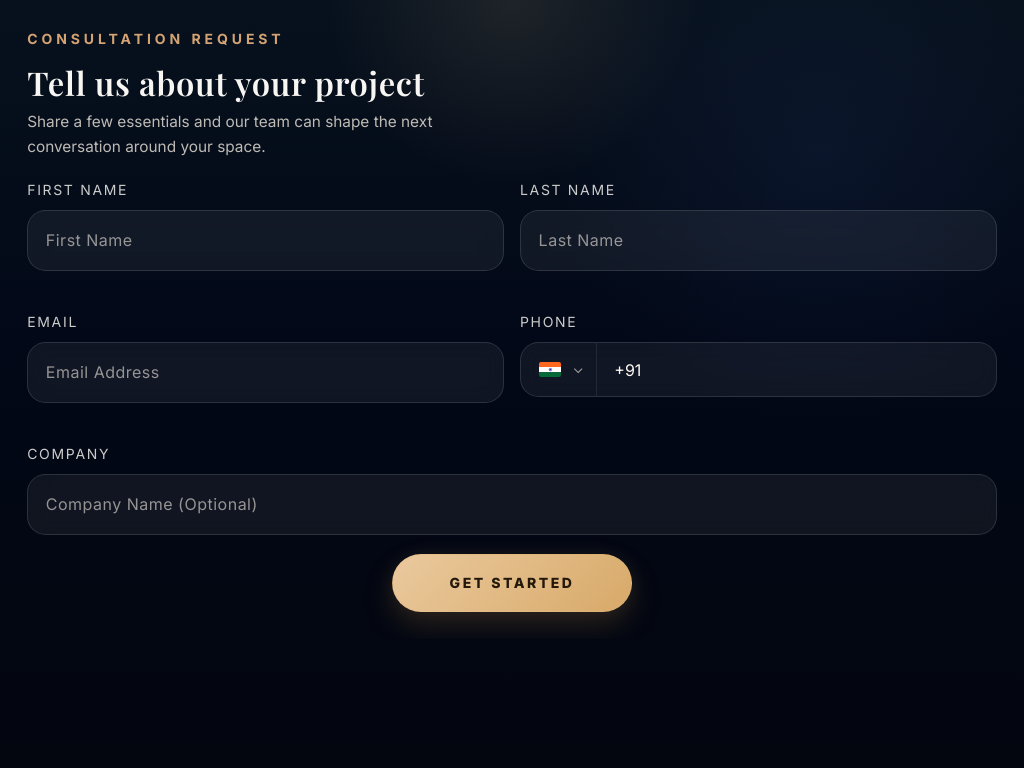
Test case: ConsultationForm › submits valid details and advances to OTP verification
Type "Arelia" into the field labelled "First Name" at (266, 240), box [27,210,504,271]
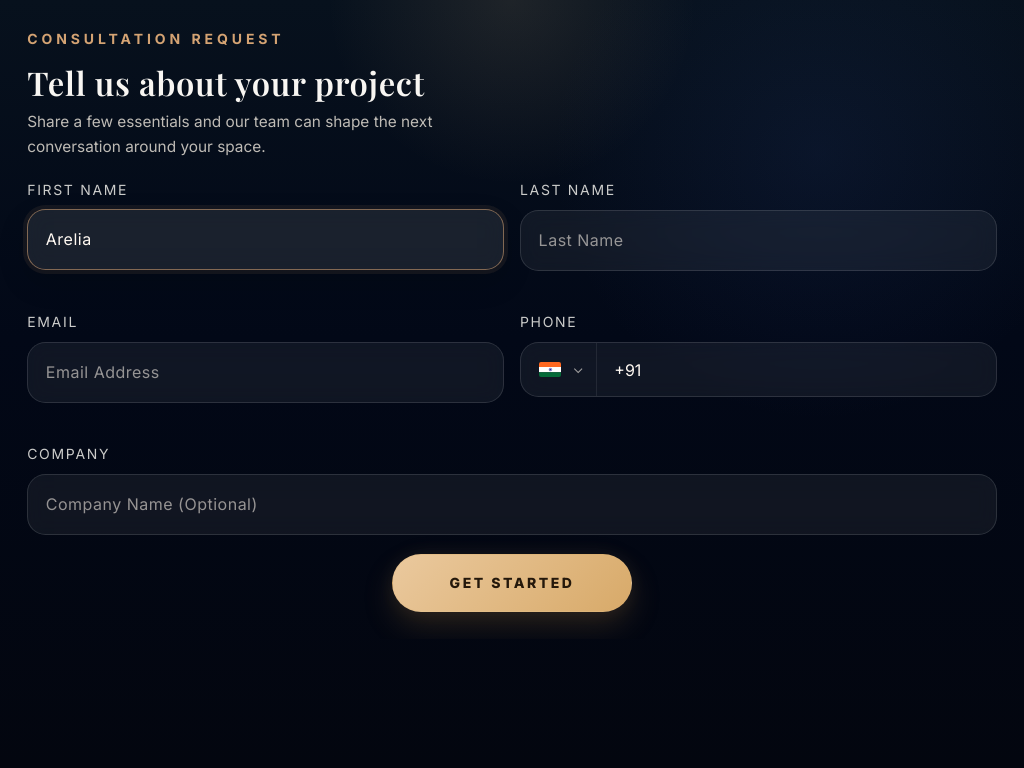
Type "Space" into the field labelled "Last Name" at (758, 240), box [520,210,997,271]
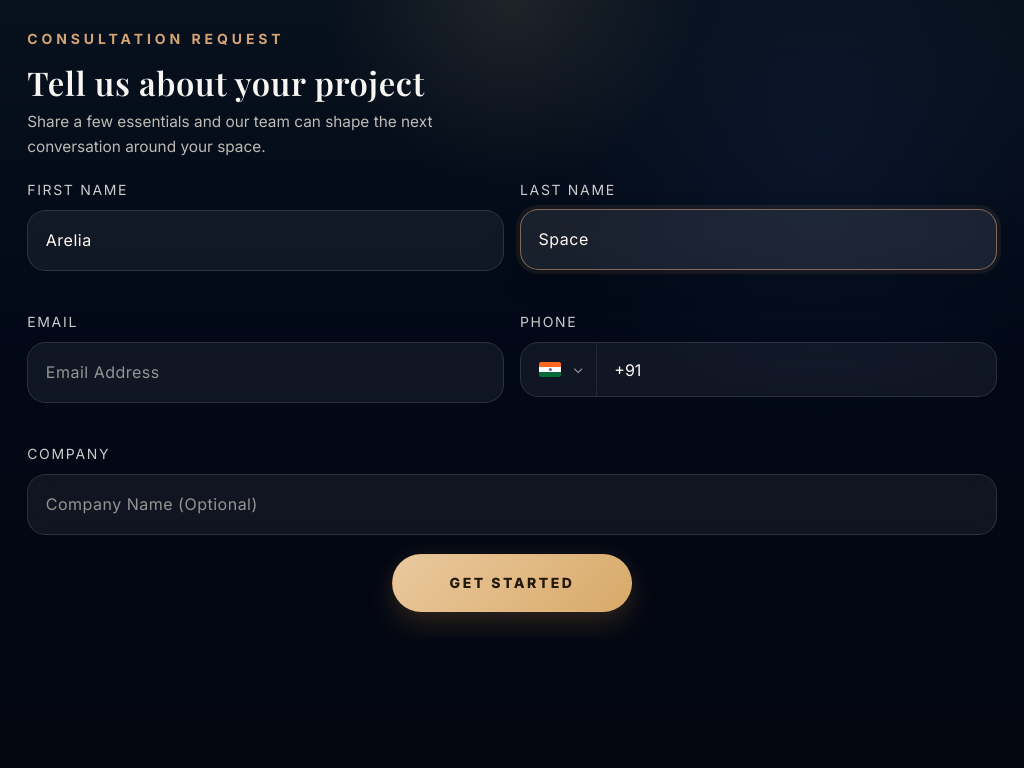
Type "hello@arelia.com" into the field labelled "Email" at (266, 373), box [27,342,504,403]
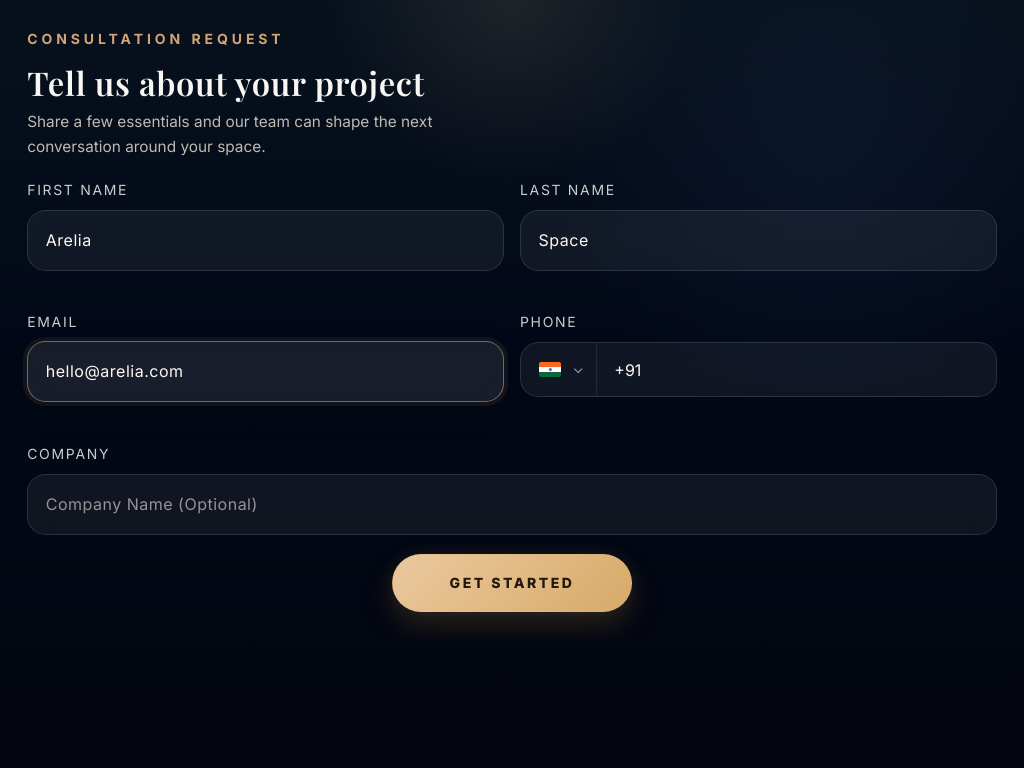
Type "9876543210" into the field labelled "Phone" at (796, 370), box [596,343,996,396]
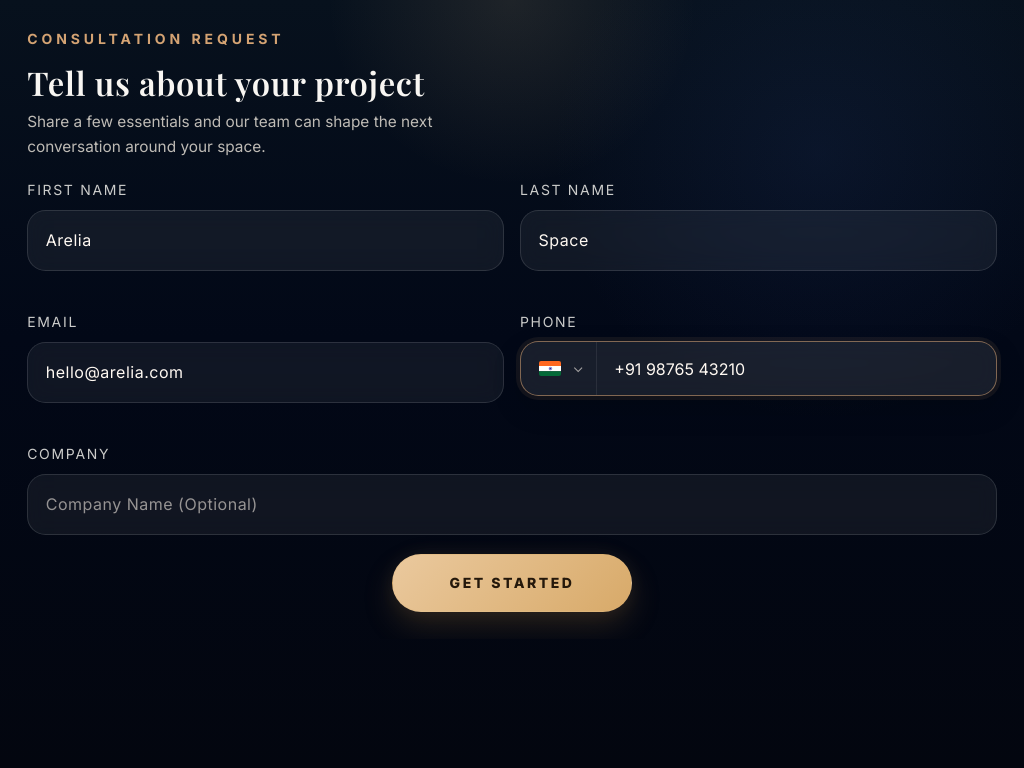
Type "Arelia Space" into the field labelled "Company" at (512, 505), box [27,474,997,535]
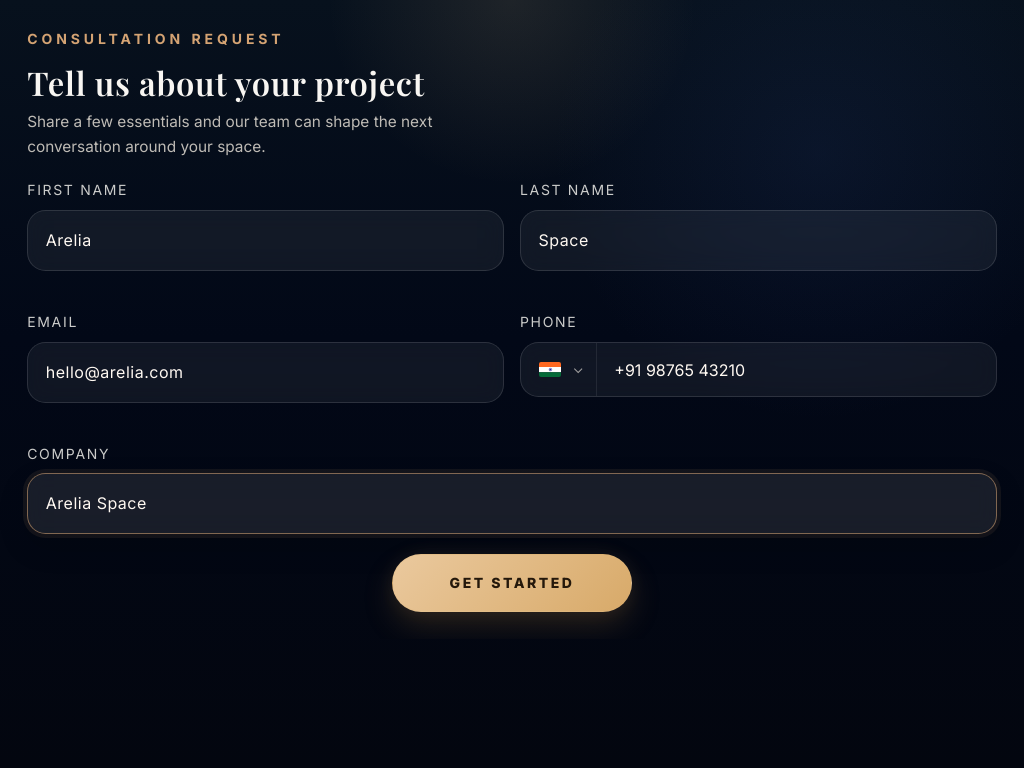
Click the button "Get Started" at (512, 583), box [392,554,632,612]
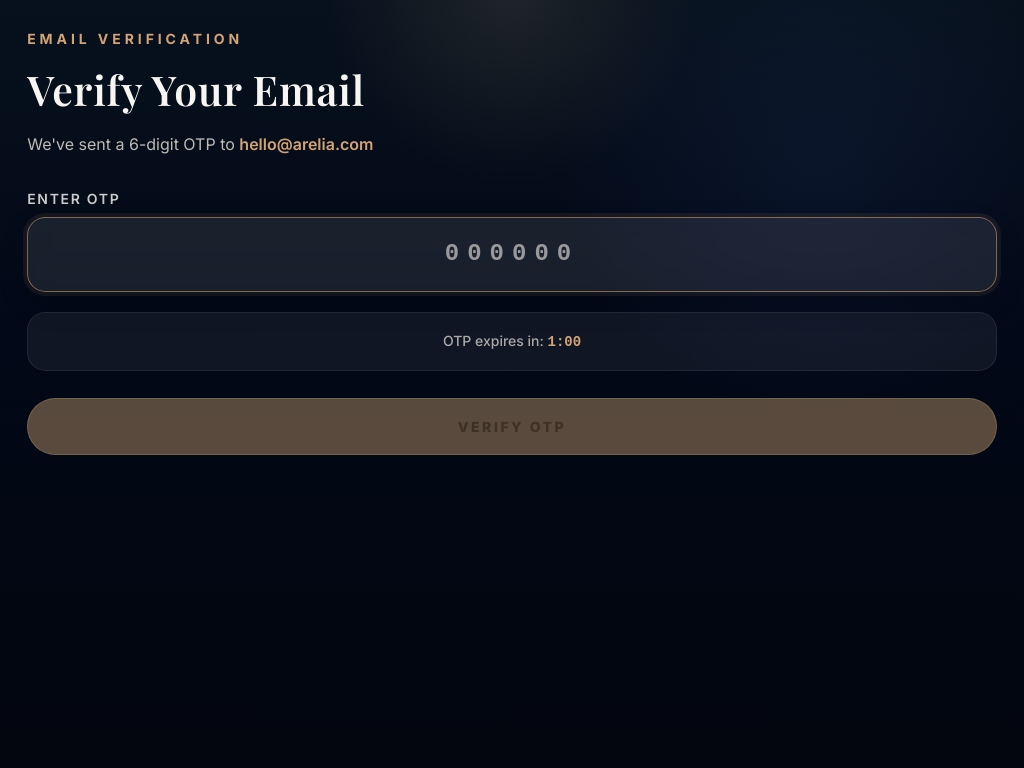
Now the heading "Verify Your Email" is shown, box [27,62,365,116]
Now the text "hello@arelia.com" is shown, box [239,134,374,154]
